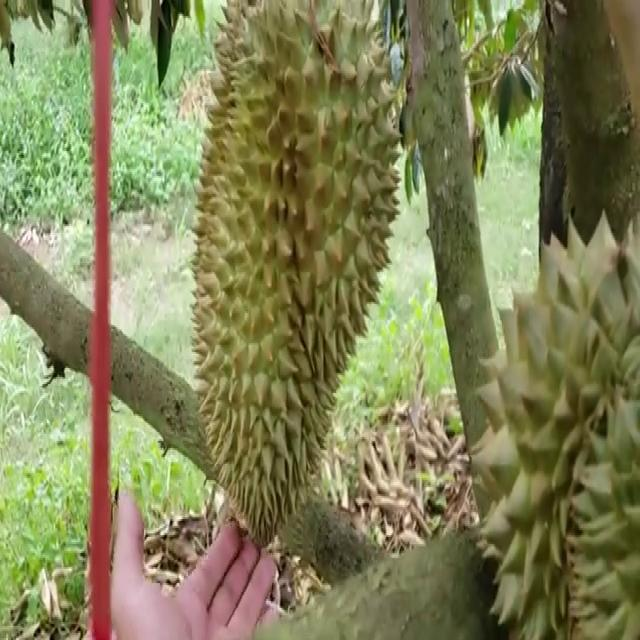durian: (185, 0, 410, 553)
